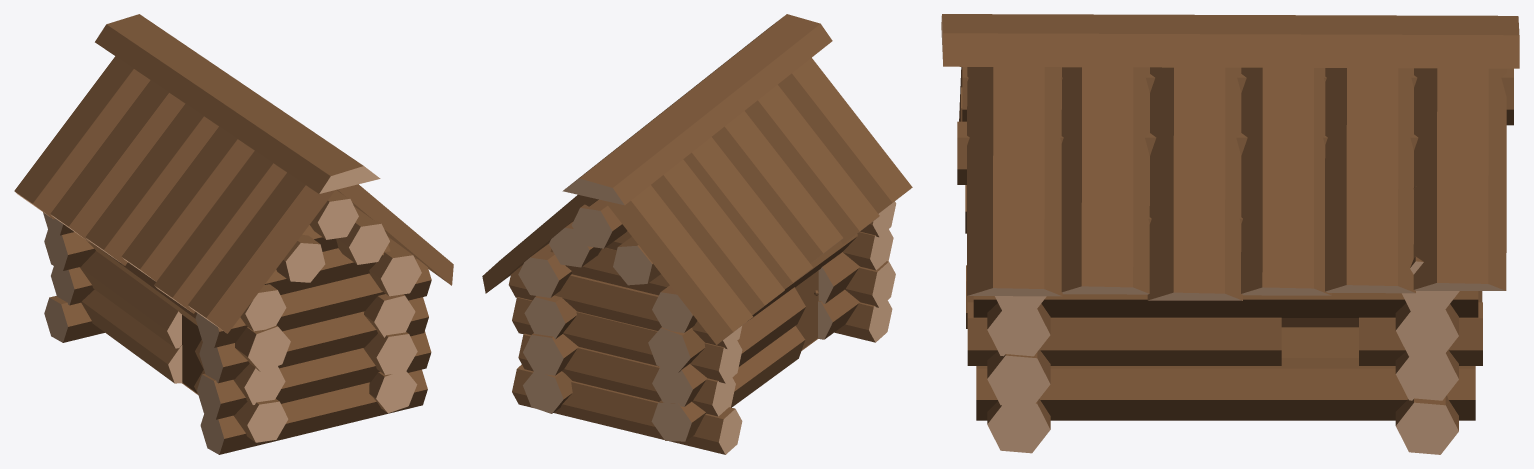
File: Forest_Cottage_1.fbx
3 renders of one model, left to right at view 1: azimuth 30°, elevation 25°; view 2: azimuth 150°, elevation 25°; view 3: azimuth 270°, elevation 25°, orthographic. The views are drawn at different scales.
Visible parts, largest first — view 1: Forest_Cottage_1; view 2: Forest_Cottage_1; view 3: Forest_Cottage_1.
Boxes of the visible parts, <box> form: Forest_Cottage_1: <box>14,14,453,454</box>; Forest_Cottage_1: <box>482,14,912,454</box>; Forest_Cottage_1: <box>941,14,1519,454</box>.
Size of the model in its own units: 629 by 647 by 922.
